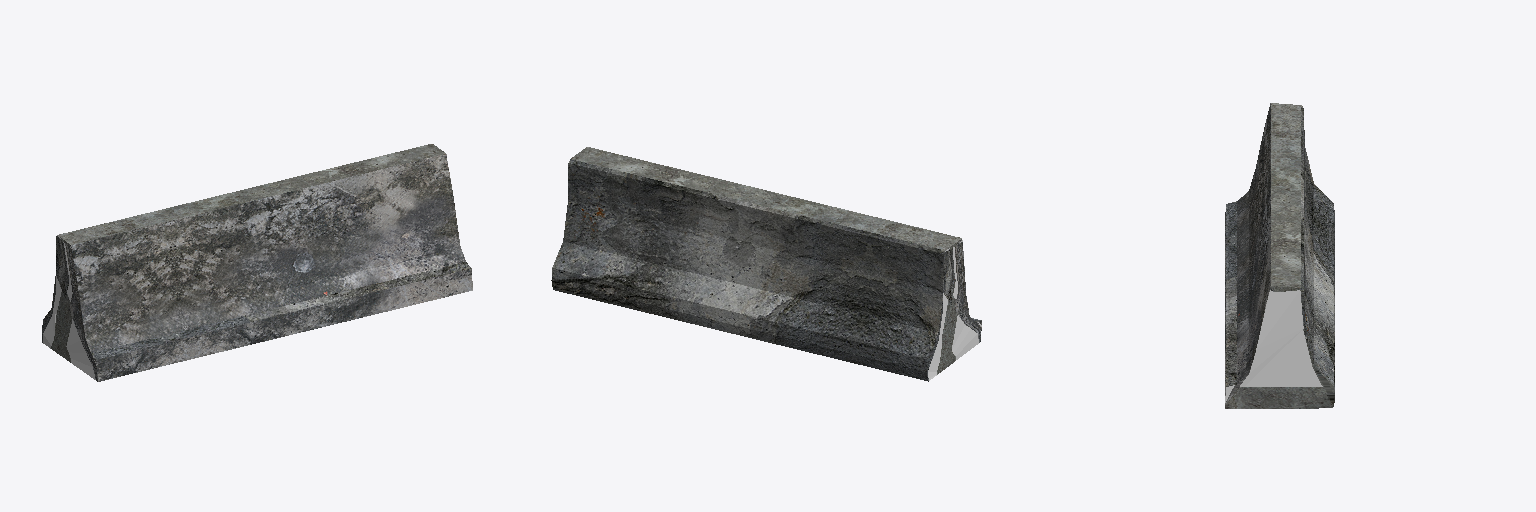
3 views of the same model, side by side, from view 1: azimuth 30°, elevation 25°; view 2: azimuth 150°, elevation 25°; view 3: azimuth 270°, elevation 25° (orthographic).
Parts seen in each view (by area): view 1: loftNurbs_1; view 2: loftNurbs_1; view 3: loftNurbs_1.
Part boxes in pixels (x1,y1,x2,y2): loftNurbs_1: (42,144,472,381); loftNurbs_1: (551,147,981,381); loftNurbs_1: (1225,103,1334,408).
Bounding box in the file's own units: 21.34 × 6.52 × 5.39.
1 materials, 1 textured.